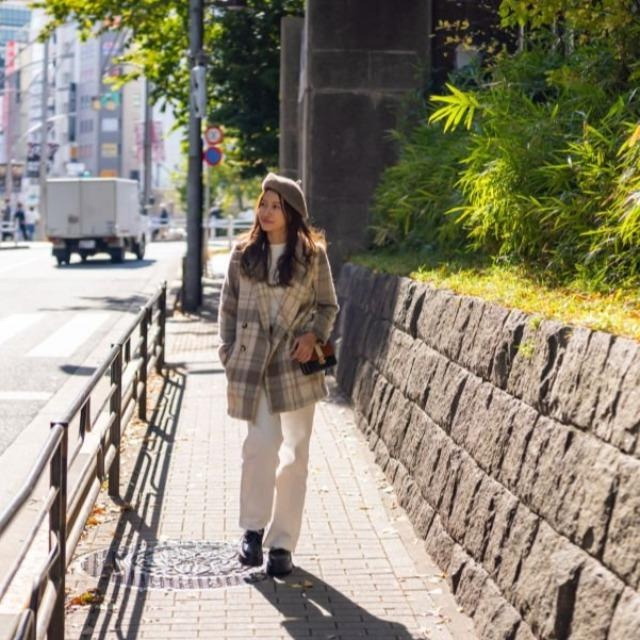Sin_Casco_Mascarrilla: (253, 172, 312, 232)
Sin_Chaleco: (222, 233, 331, 388)
